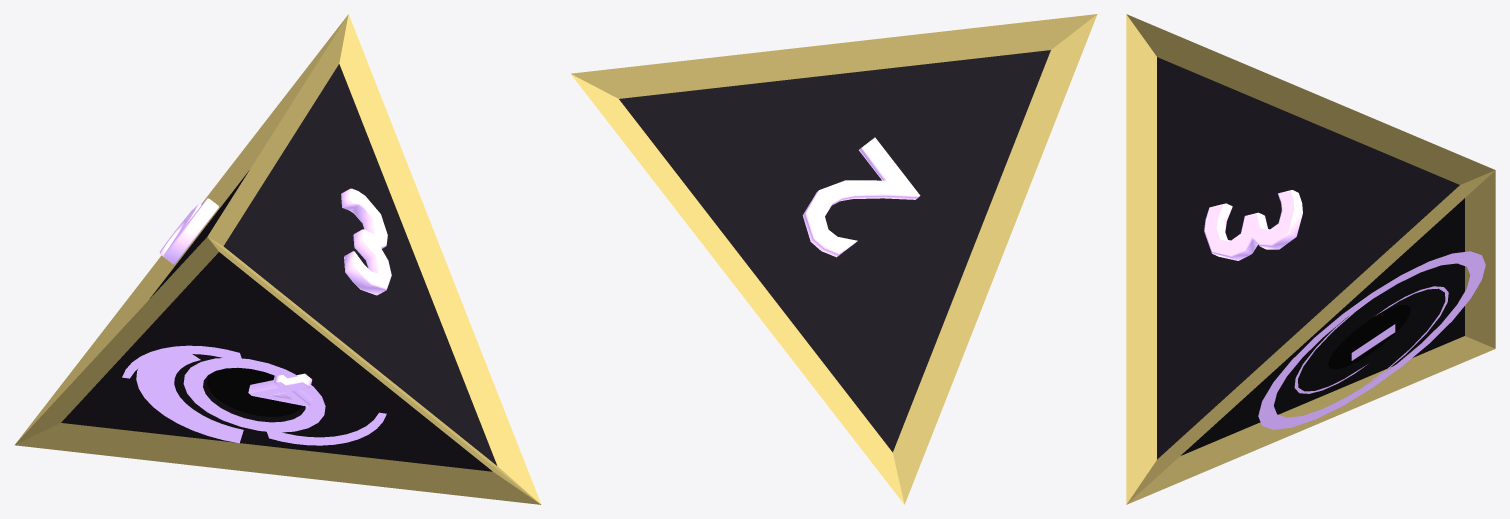
Rendered from d4_black_hole_gold.glb.
The picture shows the model from 3 angles, left to right: view 1: azimuth 30°, elevation 25°; view 2: azimuth 150°, elevation 25°; view 3: azimuth 270°, elevation 25°; orthographic projection. The views are drawn at different scales.
Visible parts, largest first — view 1: D4_BlackHole_Gold; view 2: D4_BlackHole_Gold; view 3: D4_BlackHole_Gold.
Boxes of the visible parts, x1,y1,x2,y2 form: D4_BlackHole_Gold: (15, 14, 541, 504); D4_BlackHole_Gold: (571, 14, 1097, 504); D4_BlackHole_Gold: (1126, 14, 1495, 504).
Bounding box in the file's own units: 2.77 × 2.77 × 2.77.
